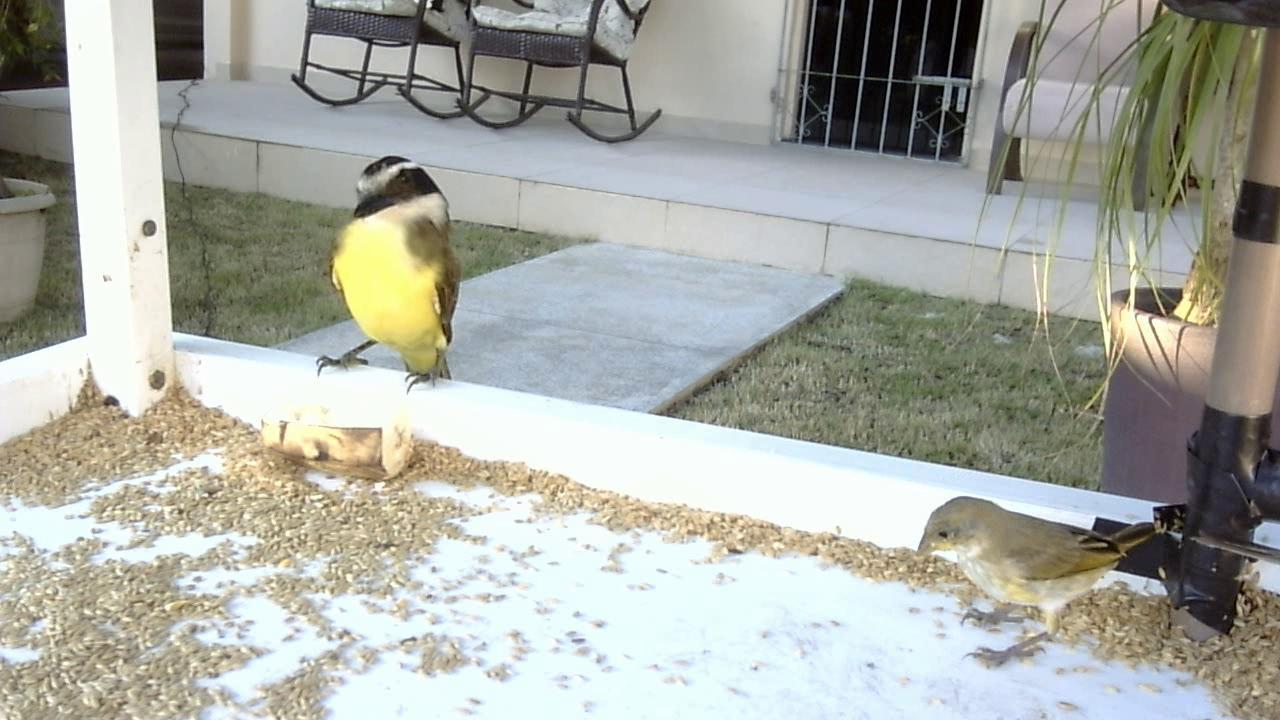bem_te_vi: (305, 143, 469, 395)
canario_do_amazonas: (904, 491, 1150, 679)
